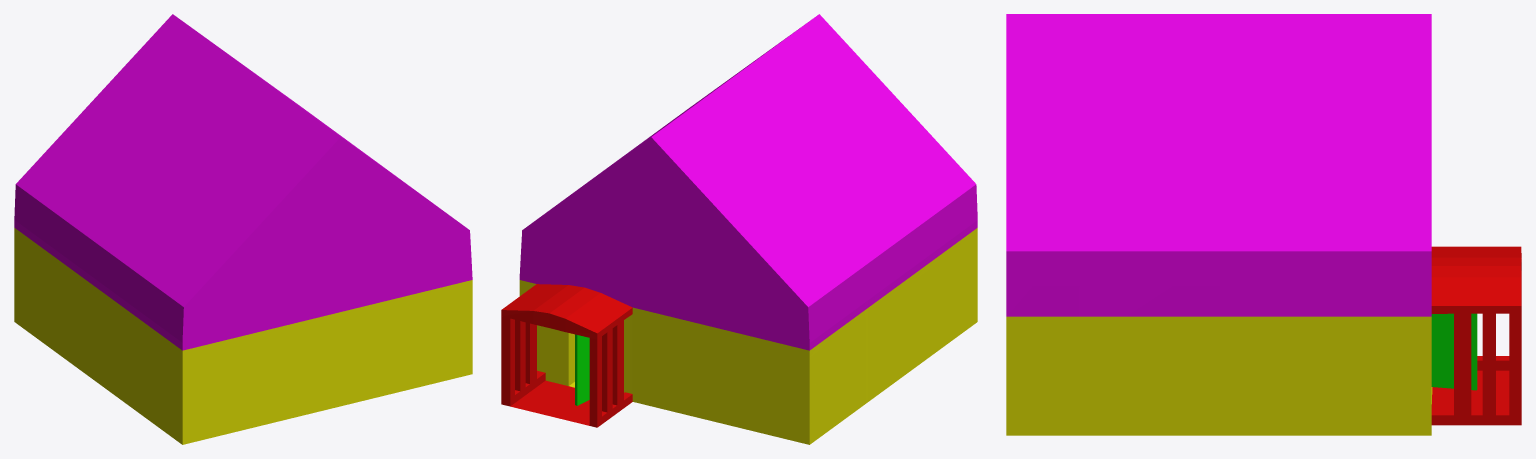
File: HouseSmall.fbx
3 renders of one model, left to right at view 1: azimuth 30°, elevation 25°; view 2: azimuth 150°, elevation 25°; view 3: azimuth 270°, elevation 25°, orthographic. The views are drawn at different scales.
Parts seen in each view (by area): view 1: pPlane1; view 2: pPlane1; view 3: pPlane1.
Boxes of the visible parts, x1,y1,x2,y2 form: pPlane1: [14, 14, 472, 444]; pPlane1: [501, 14, 977, 444]; pPlane1: [1006, 14, 1521, 435].
Size of the model in its own units: 18.91 by 15.95 by 21.86.
